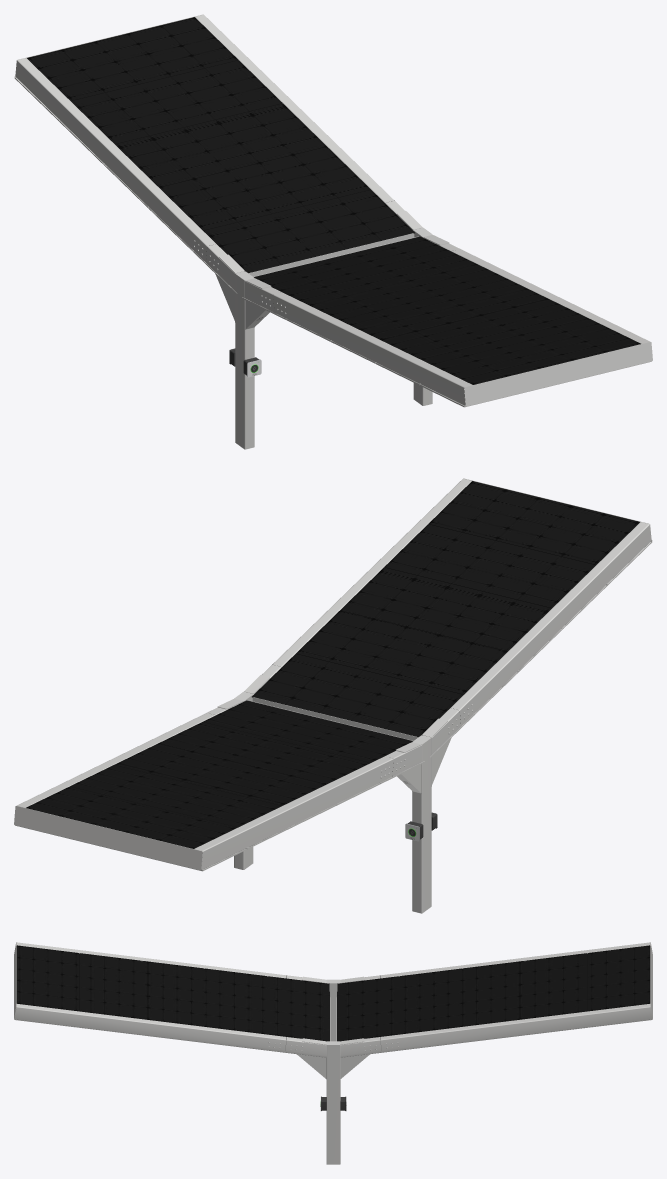
The model's file is oldPac_2.glb.
3 renders of one model, top to bottom at view 1: azimuth 30°, elevation 25°; view 2: azimuth 150°, elevation 25°; view 3: azimuth 270°, elevation 25°, orthographic. The views are drawn at different scales.
Visible parts, largest first — view 1: Left.037, Left.031, Left.026, Left.032, Left.040, Left.034, Left.027, Plane.005; view 2: Left.037, Left.031, Left.026, Left.032, Left.040, Left.034, Left.027, Plane.005; view 3: Left.037, Left.032, Left.031, Left.029, Plane.004, Left.040, Left.026.
Part boxes in pixels (<box>): Left.037: <box>27,17,640,384</box>; Left.031: <box>15,58,472,405</box>; Left.026: <box>15,14,652,406</box>; Left.032: <box>195,14,650,343</box>; Left.040: <box>235,271,254,449</box>; Left.034: <box>14,76,651,407</box>; Left.027: <box>248,233,418,276</box>; Plane.005: <box>215,274,269,329</box>; Left.037: <box>26,481,639,848</box>; Left.031: <box>194,522,651,869</box>; Left.026: <box>14,478,651,870</box>; Left.032: <box>16,478,471,807</box>; Left.040: <box>412,735,431,913</box>; Left.034: <box>15,540,652,871</box>; Left.027: <box>248,697,418,740</box>; Plane.005: <box>397,738,451,793</box>; Left.037: <box>16,945,650,1041</box>; Left.032: <box>14,1004,652,1057</box>; Left.031: <box>16,942,650,982</box>; Left.029: <box>326,1041,340,1164</box>; Plane.004: <box>298,1055,368,1078</box>; Left.040: <box>326,979,340,1041</box>; Left.026: <box>14,942,652,1018</box>.
Bounding box in the file's own units: 2.83 × 3.15 × 11.57.
Materials: 6 (5 with a texture image).
